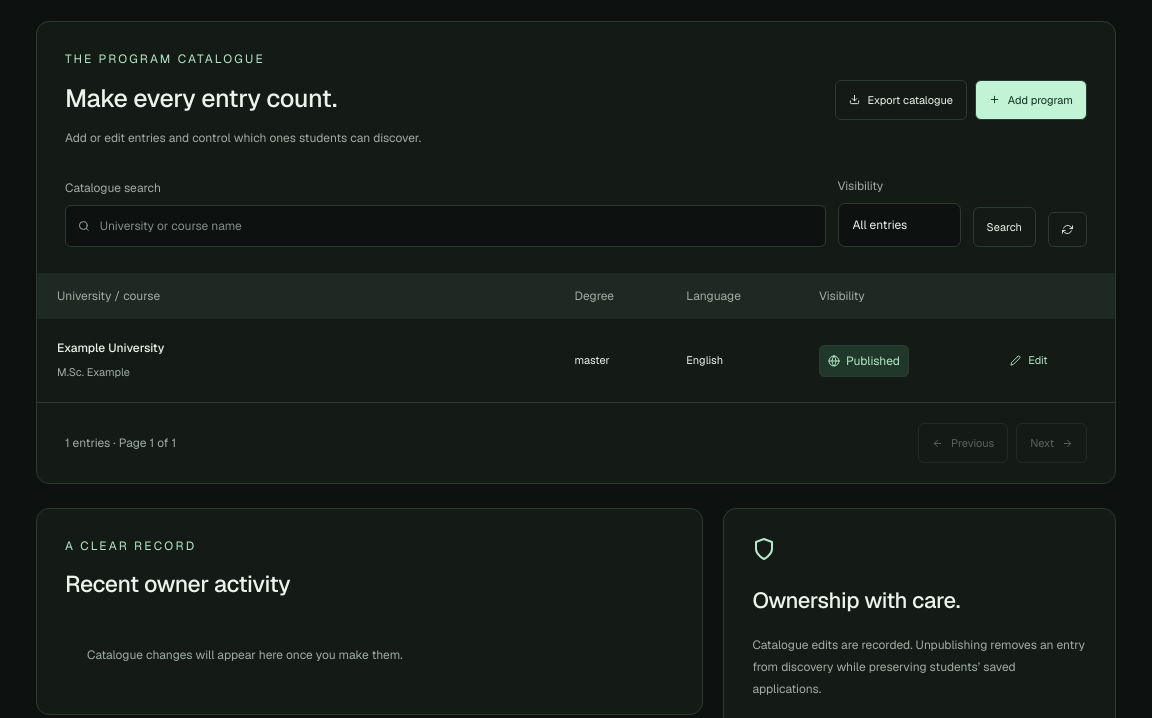
Test: failed saves keep edits and never claim success or close the editor
(page scrolled)
Expected: the button "Add program" is enabled, [975,80,1087,120]
Click the button with aria-label "Edit M.Sc. Example at Example University" at [1029, 361], box [1001,343,1057,378]
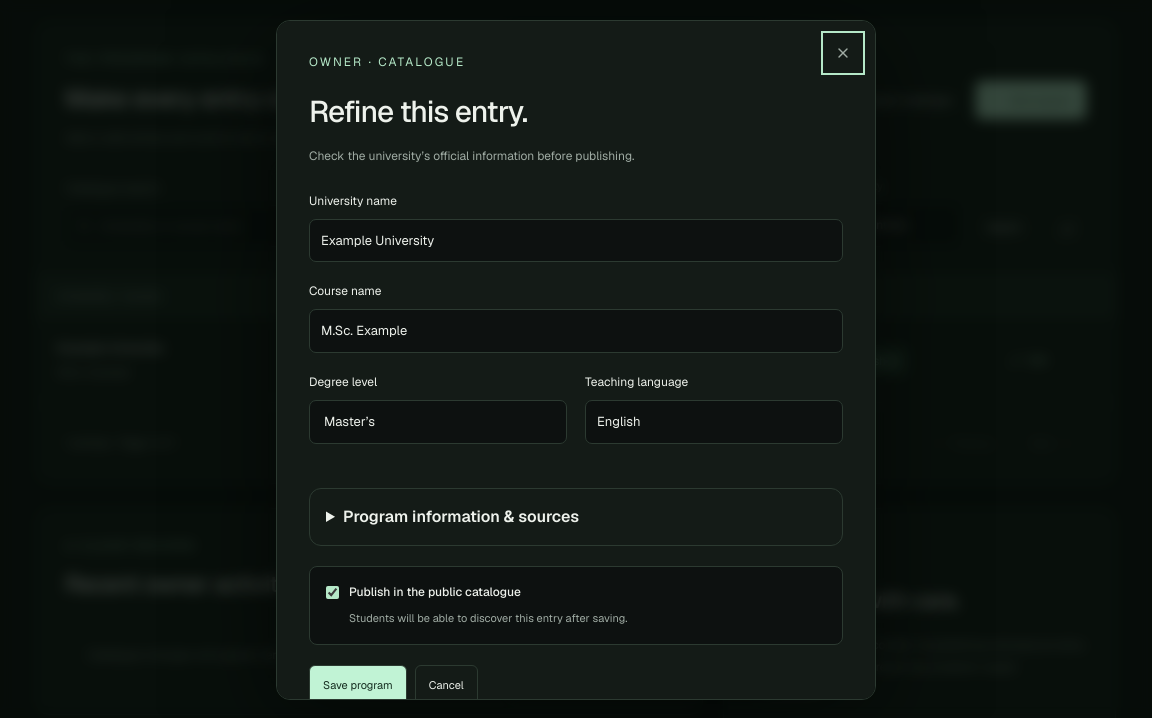
Replace the text in the field labelled "Course name" with "M.Sc. Updated" at [576, 331], box [309,309,843,353]
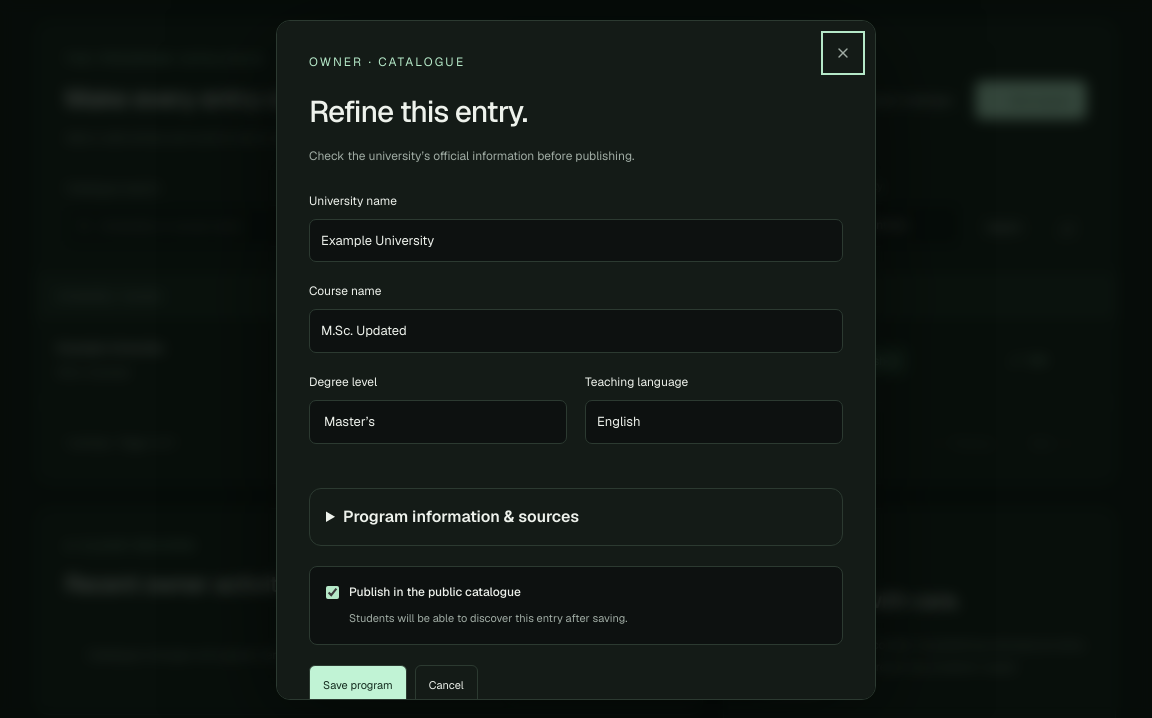
Click the button "Save program" at [358, 686], box [309,665,407,706]
(page scrolled)
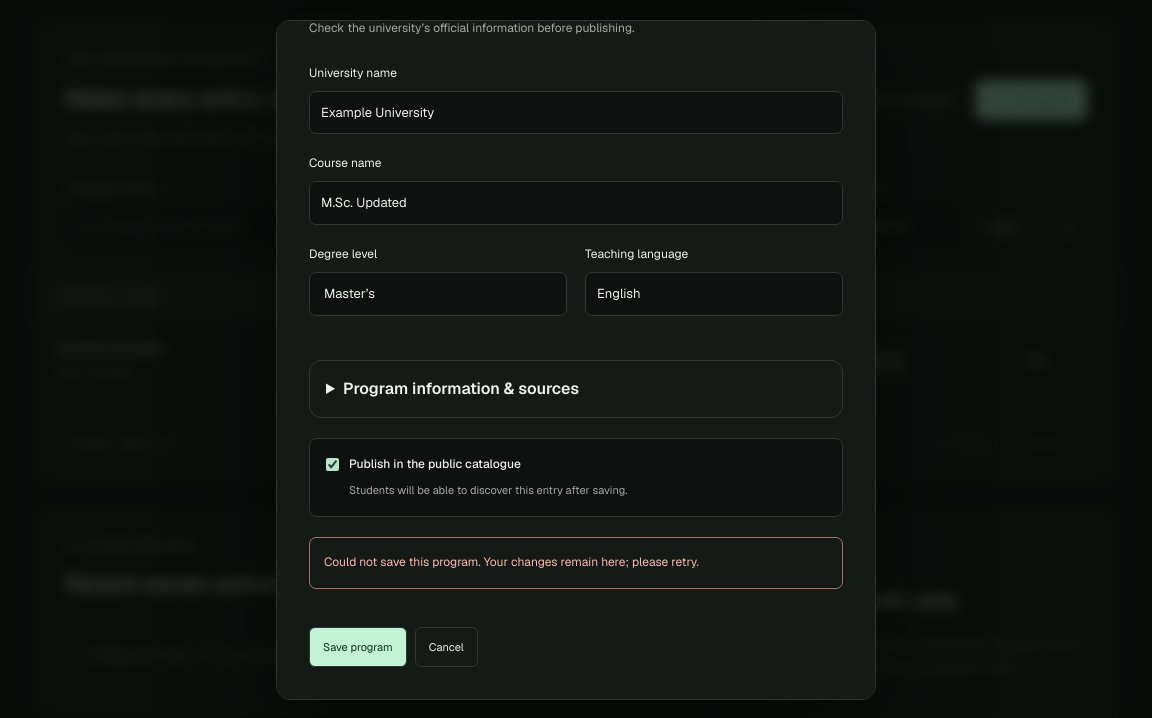
Expected: the message "Could not save this program. Your changes remain here; please retry." is shown, [309,537,843,589]
Click the button "Save program" at [358, 647], box [309,627,407,668]
(page scrolled)
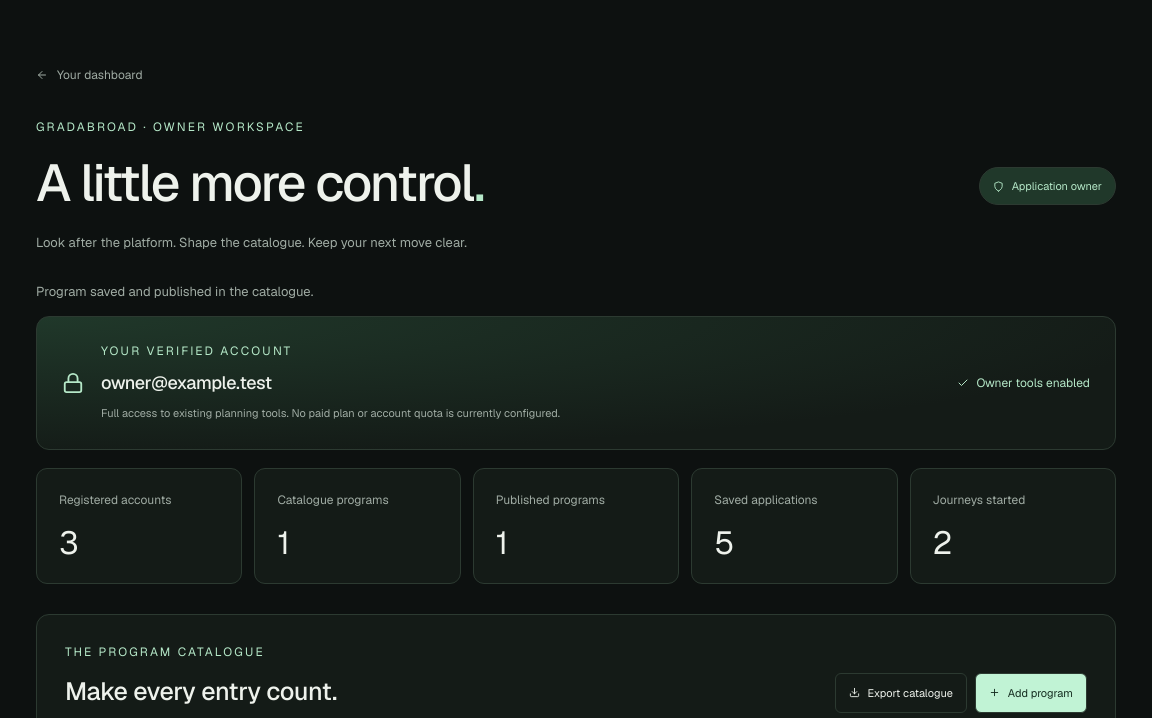
Expected: the text "Program saved and published in the catalogue." is shown, [36,283,313,300]
